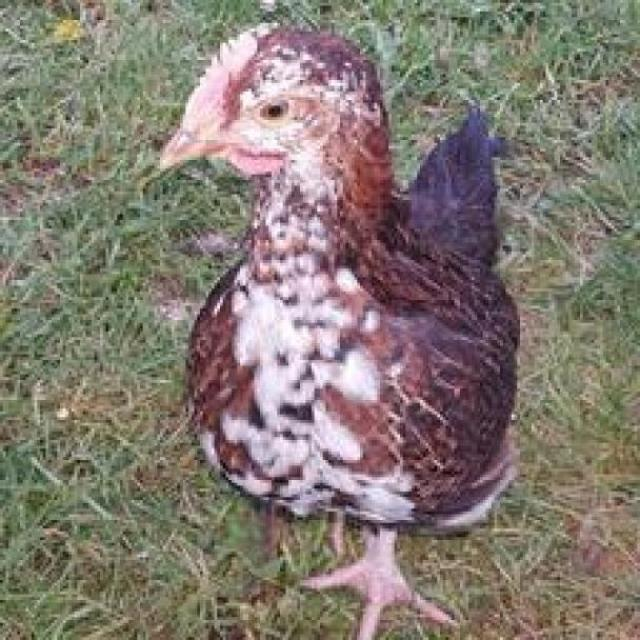Chicken: (129, 16, 548, 640)
